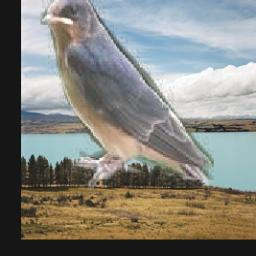Swallow: (41, 0, 215, 191)
